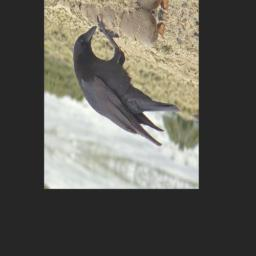Crow: (64, 6, 191, 153)
